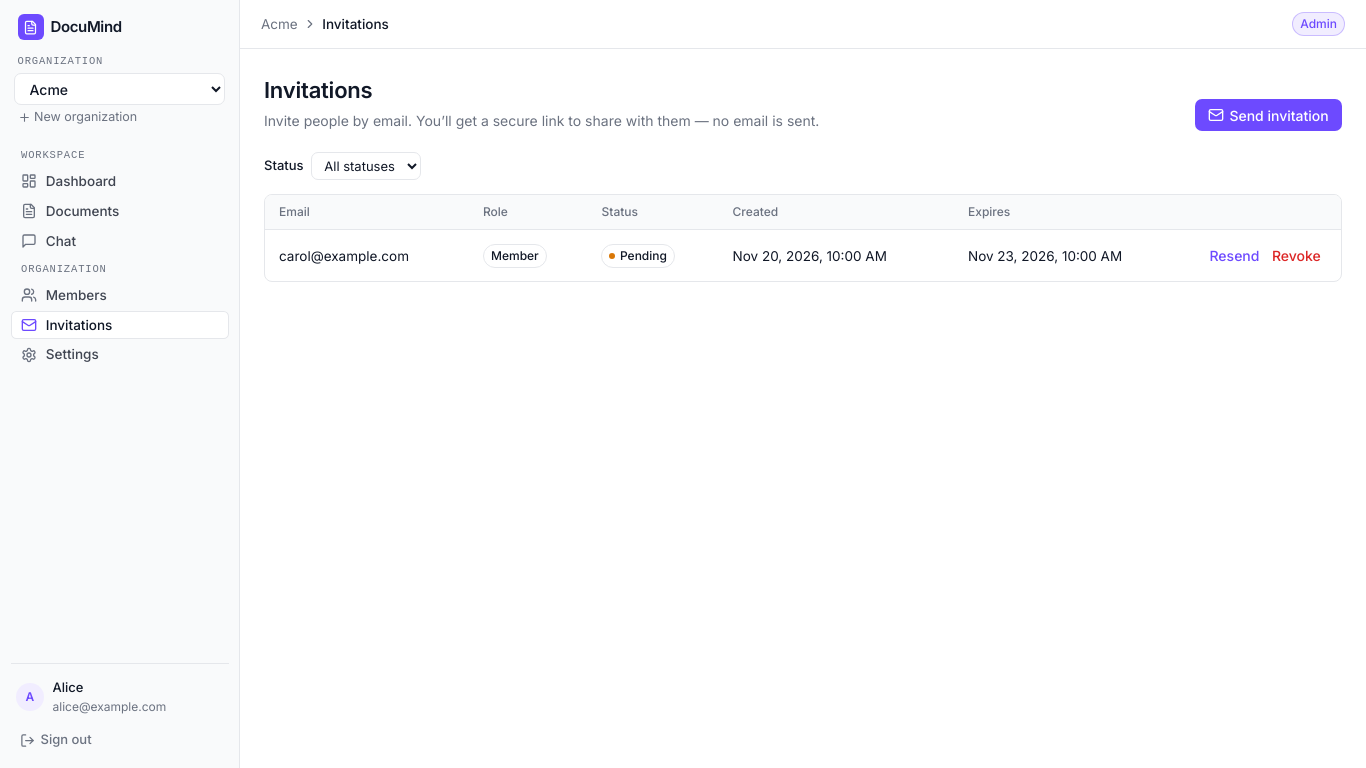
Scenario: Invitations panel (admin) › resend shows the new link and explains the old one stopped working
This screenshot has width=1366, height=768.
Expected: the heading "Invitations" is shown, top-left (264, 77), bottom-right (372, 103)
Click the button with aria-label "Resend invitation to carol@example.com".
click(1234, 256)  # box top-left (1203, 241), bottom-right (1266, 271)
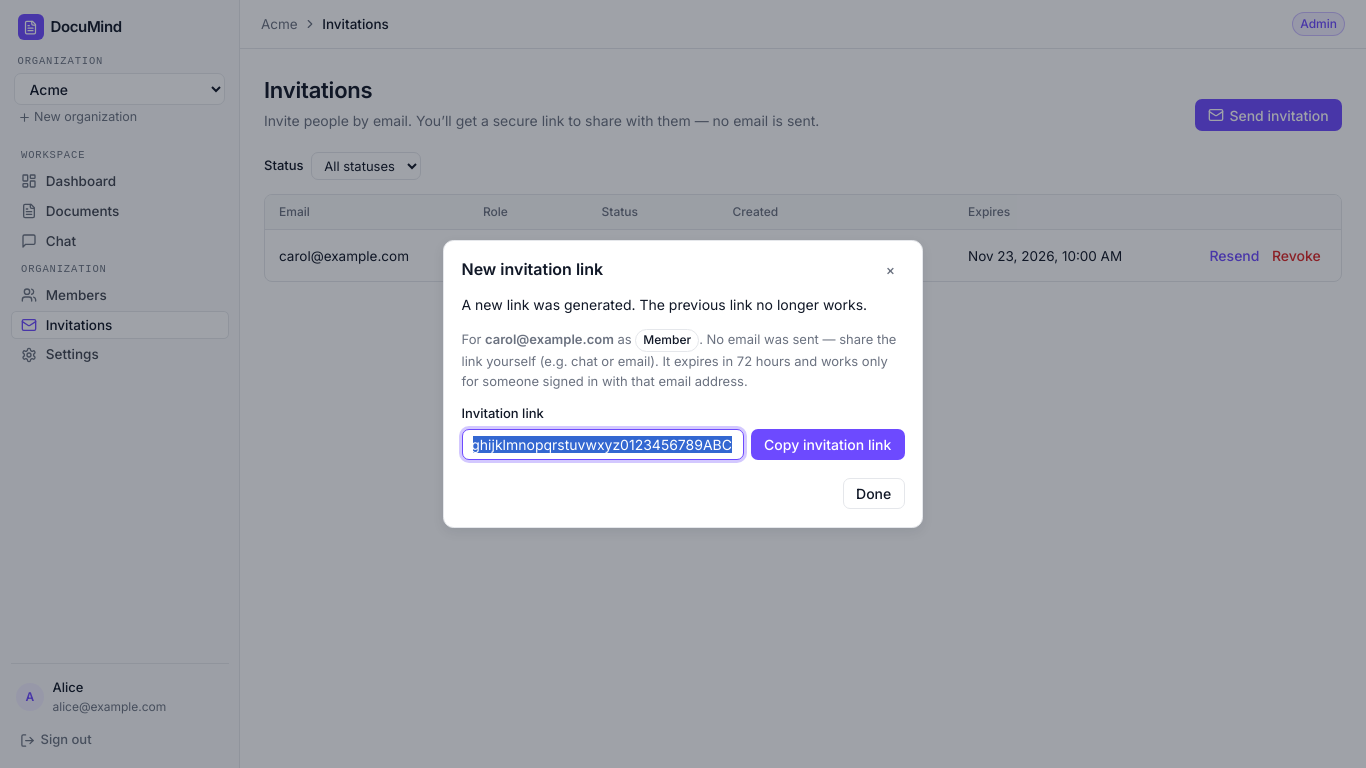
Expected: the text "A new link was generated. The previous link no longer works." is shown, top-left (462, 294), bottom-right (904, 315)
